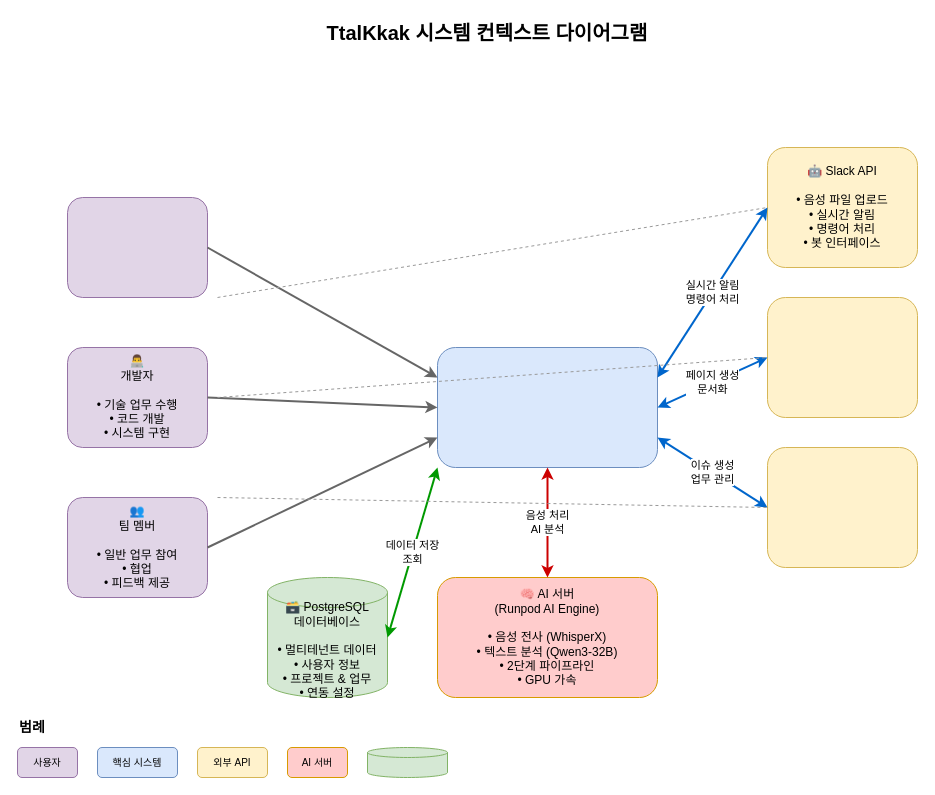
This 935x795 diagram has some shape labels left out. The shapes that lost their labels are listed below. From the top down, each one's centre as x and y in pixels, then its label:
At (x=137, y=247): "🧑‍💼 프로젝트 매니저 • 프로젝트 기획 • 업무 관리 • 팀 조율".
At (x=842, y=357): "📝 Notion API • 자동 페이지 생성 • 프로젝트 문서화 • 구조화된 내용 • 워크스페이스 연동".
At (x=547, y=407): "TtalKkak AI 기반 프로젝트 관리 시스템 🎯 음성 입력을 통한 자동 업무 생성 및 배정".
At (x=842, y=507): "🎫 JIRA API • 자동 이슈 생성 • Epic/Task 매핑 • 워크플로우 관리 • 프로젝트 추적".
At (x=407, y=762): "데이터베이스".
